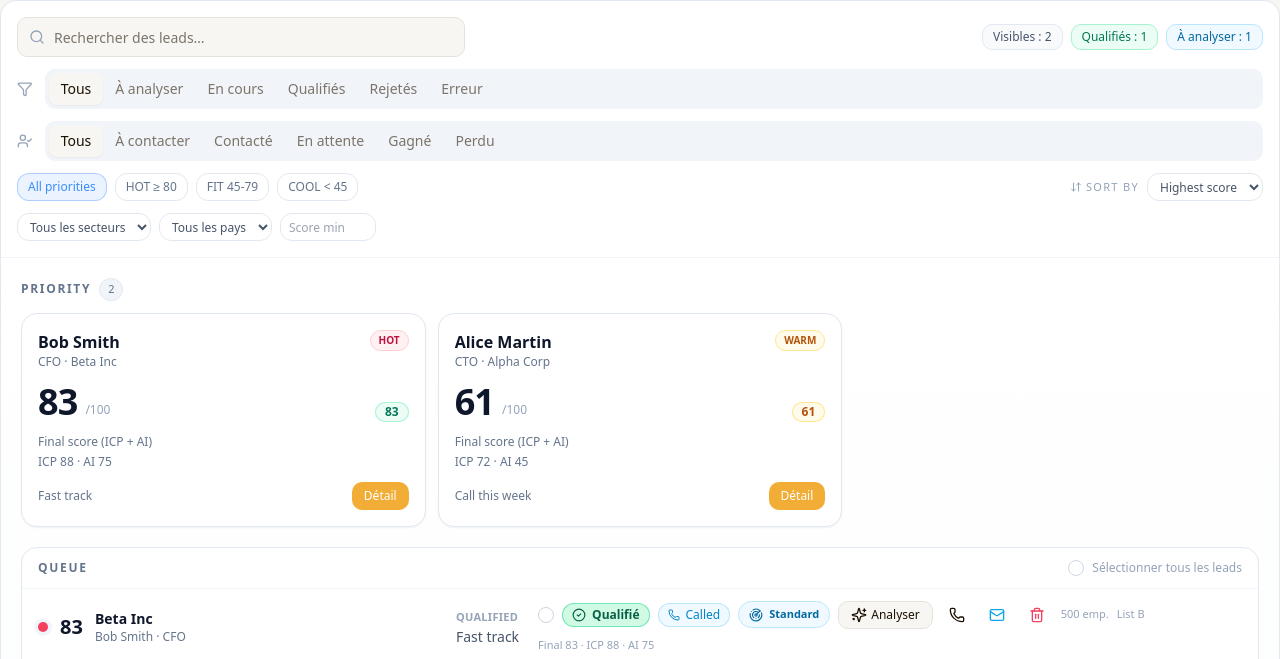
LeadsTable › select all checkbox selects all visible leads
The width and height of the screenshot is (1280, 659).
Click the checkbox named "Sélectionner tous les leads".
click(1076, 568)  # box [1068,560,1084,576]
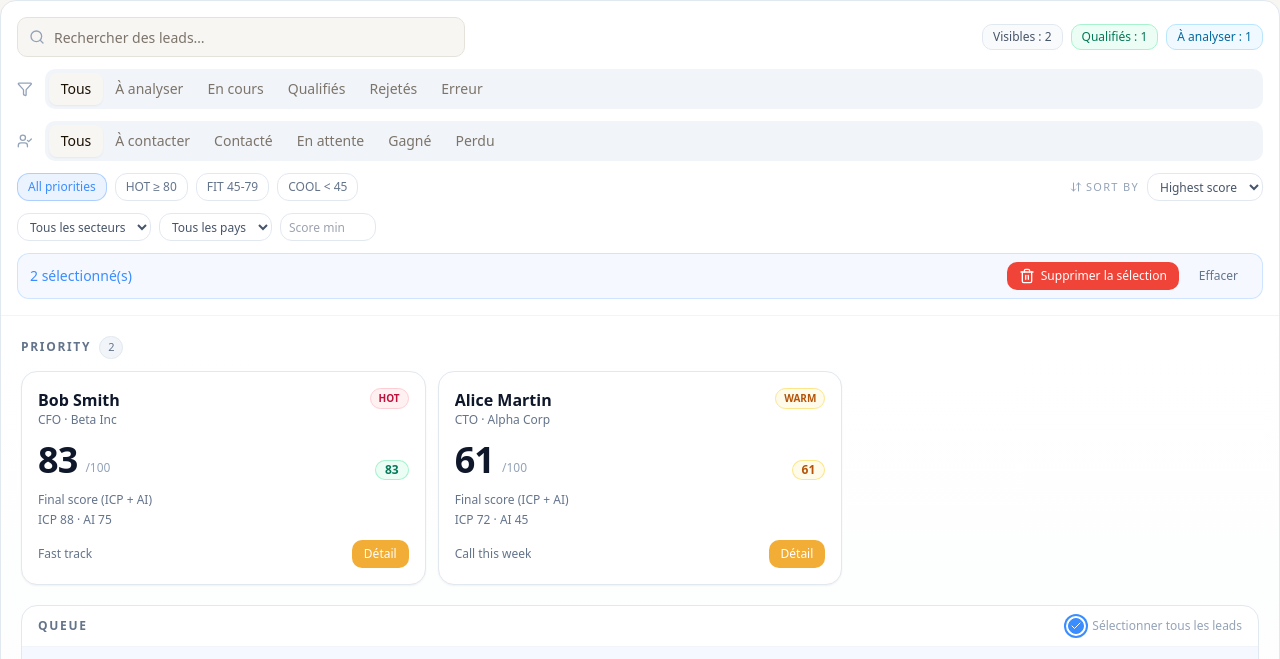
Now the text "2 sélectionné(s)" is shown, box [30,266,132,286]
